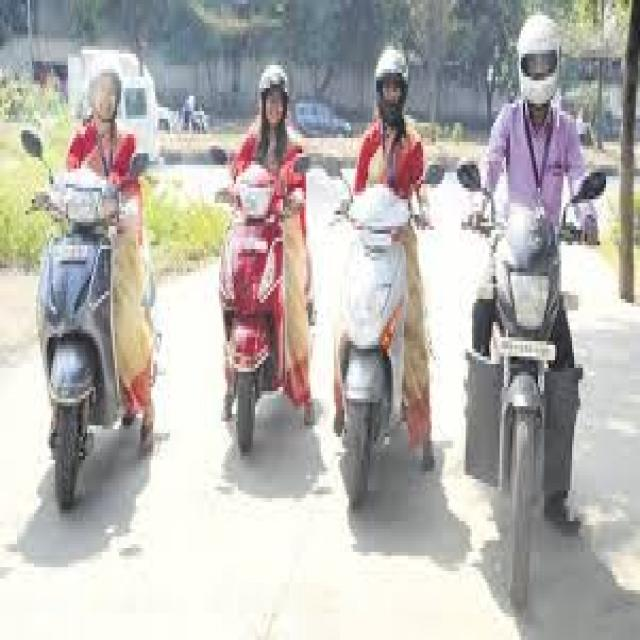not_triplets: (464, 0, 595, 616), (22, 61, 181, 487), (330, 45, 443, 492), (211, 42, 328, 463)
with-helmet: (514, 4, 564, 103), (376, 50, 415, 130), (87, 57, 123, 126), (260, 65, 294, 138)
